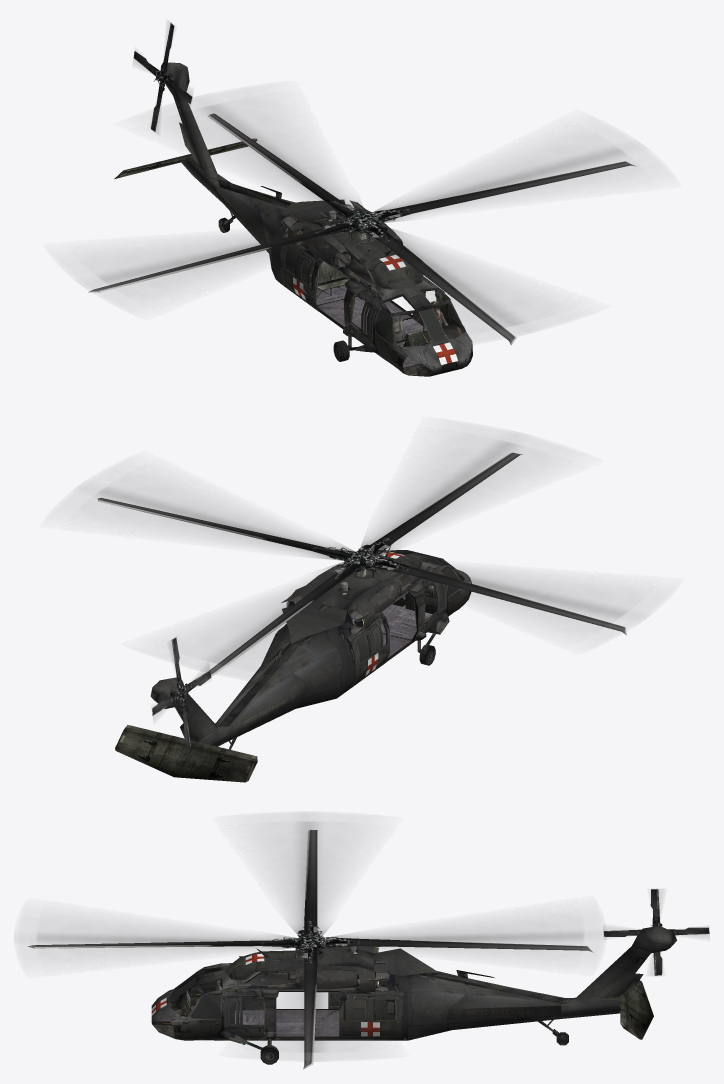
File: fblkhawm.glb
3 renders of one model, top to bottom at view 1: azimuth 30°, elevation 25°; view 2: azimuth 150°, elevation 25°; view 3: azimuth 270°, elevation 25°, orthographic. The views are drawn at different scales.
Parts seen in each view (by area): view 1: _fblkhawm; view 2: _fblkhawm; view 3: _fblkhawm.
Part boxes in pixels (bbox=[...]): _fblkhawm: bbox=[78, 22, 645, 376]; _fblkhawm: bbox=[76, 432, 647, 782]; _fblkhawm: bbox=[15, 812, 709, 1069].
Bounding box in the file's own units: 25.11 × 7.26 × 29.48.
7 materials, 7 textured.
